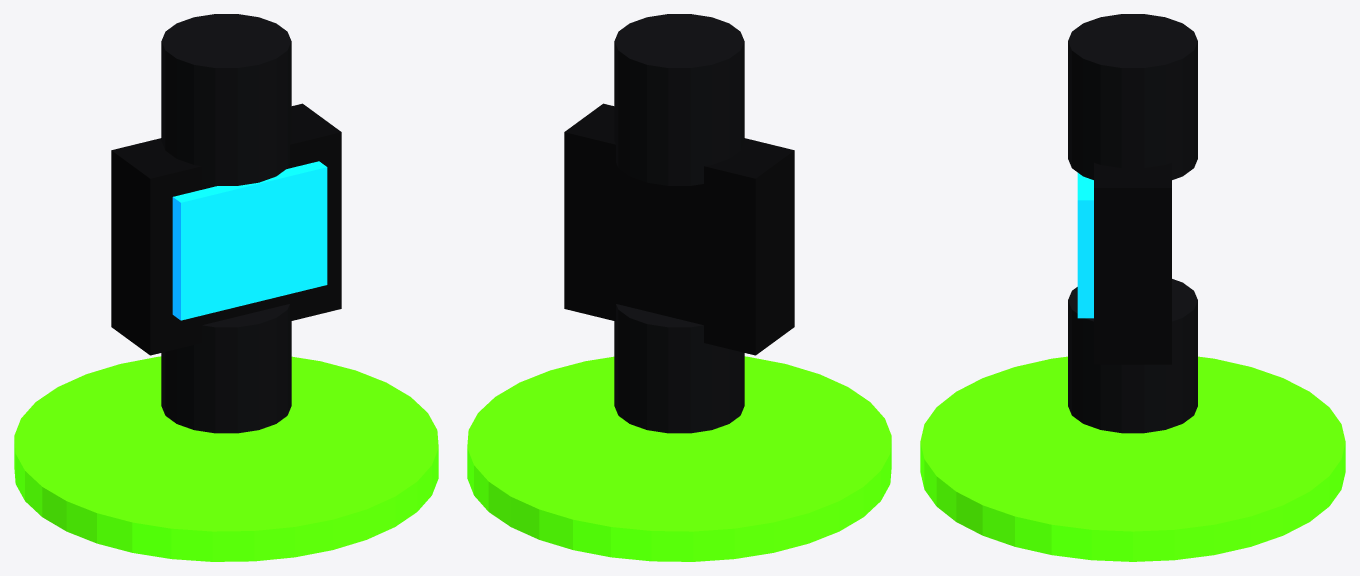
Rendered from tech_smart_watch.dae.
3 views of the same model, side by side, from view 1: azimuth 30°, elevation 25°; view 2: azimuth 150°, elevation 25°; view 3: azimuth 270°, elevation 25° (orthographic).
Parts seen in each view (by area): view 1: 08_05_Popular_Tech_Smart_Watch_ROOT_base, 08_05_Popular_Tech_Smart_Watch_part_01, 08_05_Popular_Tech_Smart_Watch_part_04, 08_05_Popular_Tech_Smart_Watch_part_02, 08_05_Popular_Tech_Smart_Watch_part_03; view 2: 08_05_Popular_Tech_Smart_Watch_ROOT_base, 08_05_Popular_Tech_Smart_Watch_part_01, 08_05_Popular_Tech_Smart_Watch_part_04, 08_05_Popular_Tech_Smart_Watch_part_03; view 3: 08_05_Popular_Tech_Smart_Watch_ROOT_base, 08_05_Popular_Tech_Smart_Watch_part_04, 08_05_Popular_Tech_Smart_Watch_part_01, 08_05_Popular_Tech_Smart_Watch_part_03, 08_05_Popular_Tech_Smart_Watch_part_02.
Boxes of the visible parts, left/top/right/bottom form: 08_05_Popular_Tech_Smart_Watch_ROOT_base: left=14, top=356, right=438, bottom=561; 08_05_Popular_Tech_Smart_Watch_part_01: left=111, top=103, right=341, bottom=355; 08_05_Popular_Tech_Smart_Watch_part_04: left=161, top=14, right=291, bottom=185; 08_05_Popular_Tech_Smart_Watch_part_02: left=172, top=161, right=327, bottom=320; 08_05_Popular_Tech_Smart_Watch_part_03: left=161, top=304, right=291, bottom=433; 08_05_Popular_Tech_Smart_Watch_ROOT_base: left=467, top=356, right=891, bottom=561; 08_05_Popular_Tech_Smart_Watch_part_01: left=564, top=103, right=794, bottom=355; 08_05_Popular_Tech_Smart_Watch_part_04: left=614, top=14, right=744, bottom=185; 08_05_Popular_Tech_Smart_Watch_part_03: left=614, top=304, right=744, bottom=433; 08_05_Popular_Tech_Smart_Watch_ROOT_base: left=920, top=356, right=1345, bottom=561; 08_05_Popular_Tech_Smart_Watch_part_04: left=1068, top=14, right=1197, bottom=179; 08_05_Popular_Tech_Smart_Watch_part_01: left=1094, top=162, right=1171, bottom=364; 08_05_Popular_Tech_Smart_Watch_part_03: left=1068, top=279, right=1197, bottom=433; 08_05_Popular_Tech_Smart_Watch_part_02: left=1077, top=173, right=1093, bottom=318.
Bounding box in the file's own units: 0.76 × 0.85 × 0.76.
